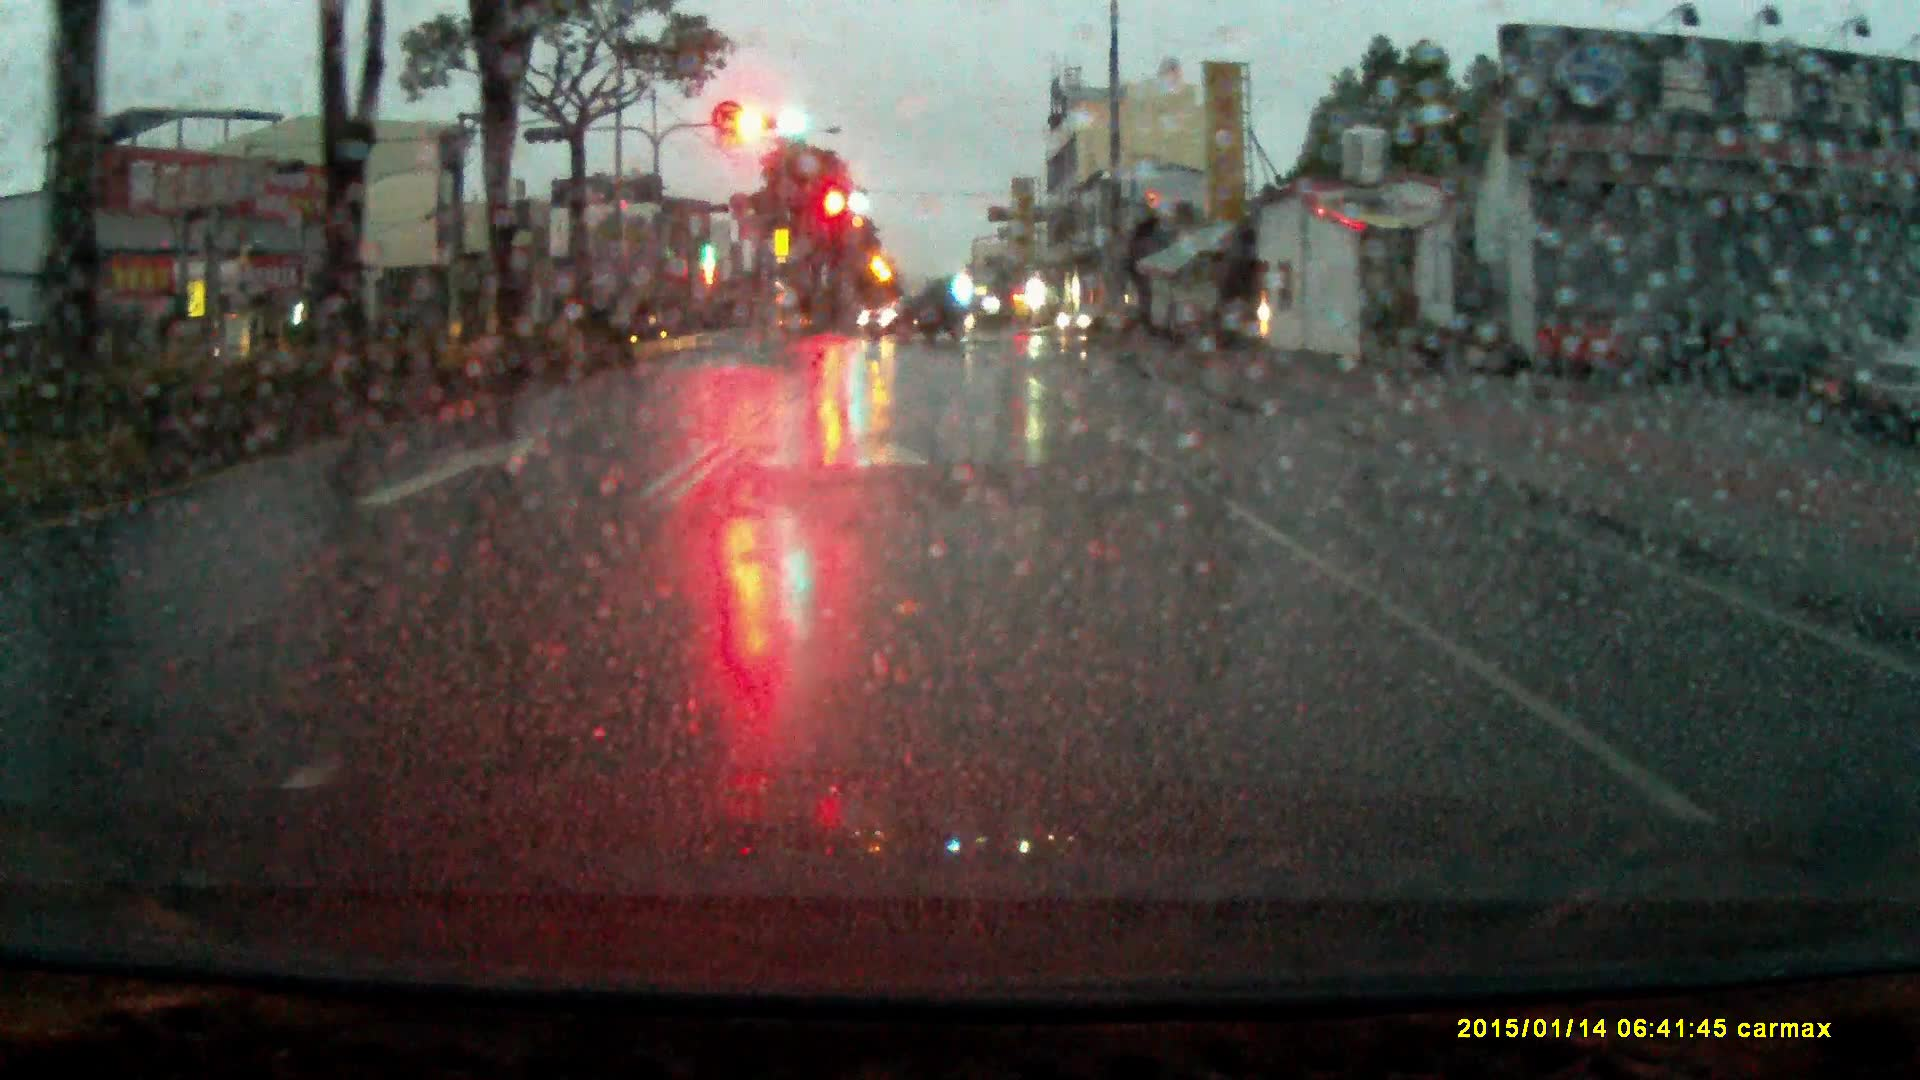vehicle: (858, 286, 971, 349)
